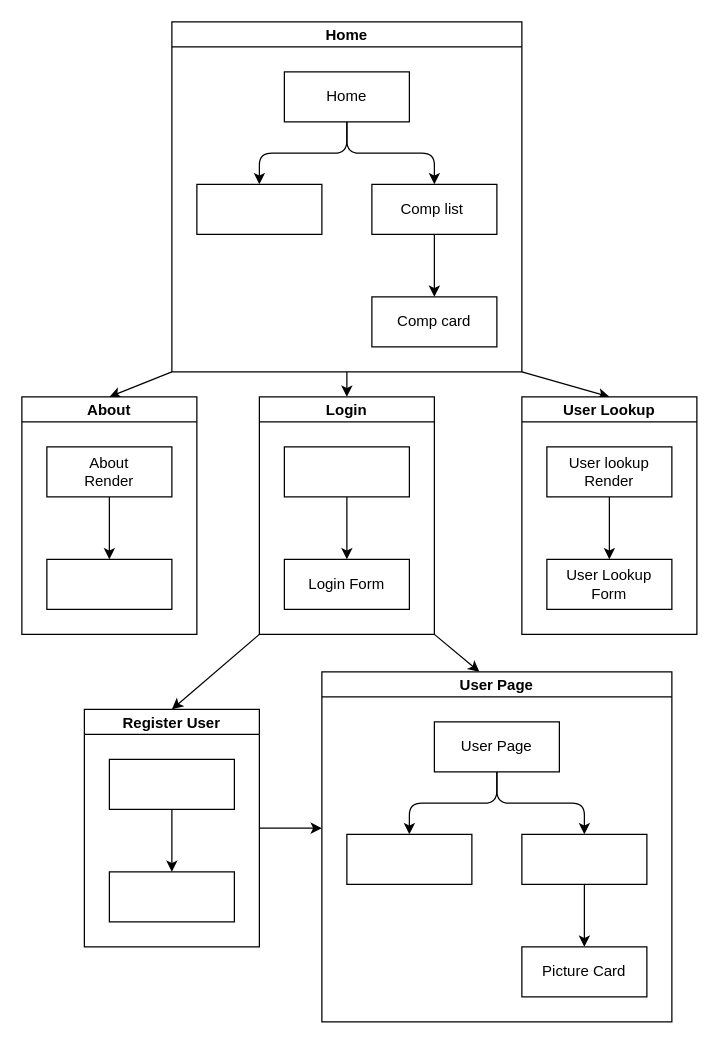
Some shapes in this 719 by 1044 pixel diagram are drawn without their labels. The shapes that lost their labels are listed below. From the top down, each one's box as (x1, y1, x2, y2) in pixels, then its label:
(196, 183, 322, 234): Nav Bar
(283, 446, 409, 497): Login Render
(46, 558, 172, 609): About Data
(108, 758, 234, 809): Register Render
(346, 833, 472, 884): Dashboard
(521, 833, 647, 884): Picture list
(108, 871, 234, 922): Register Form
